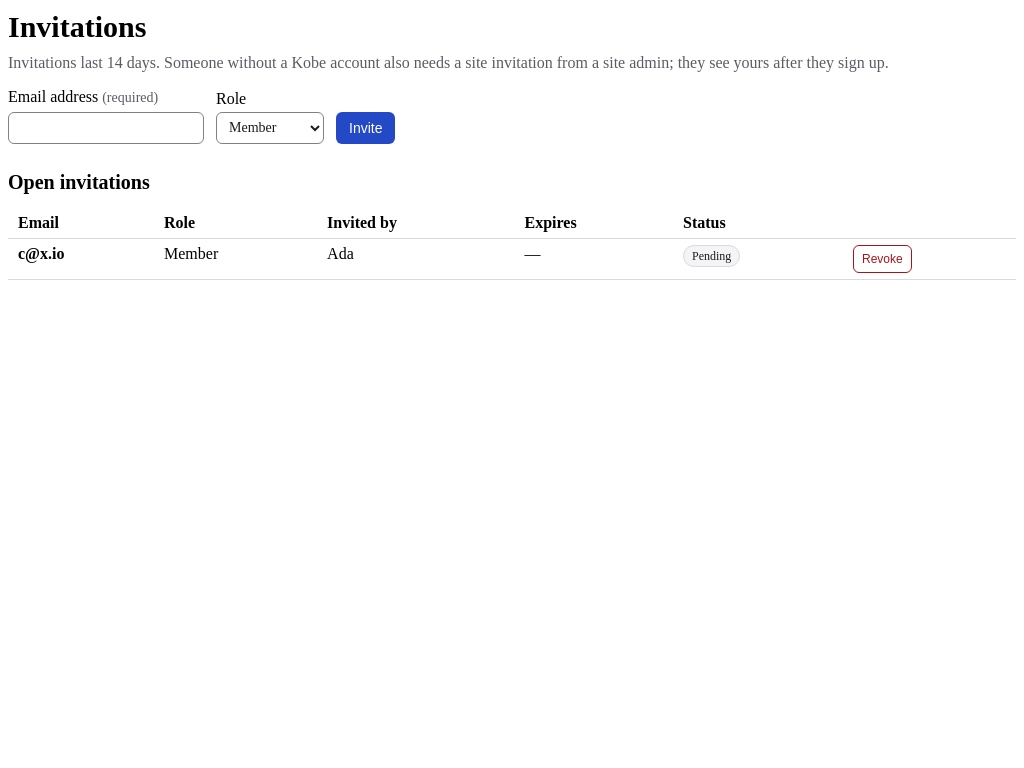
it: Team invitations › revokes
Click the button named "Revoke invitation to c@x.io" at (882, 258), box [853,244,912,272]
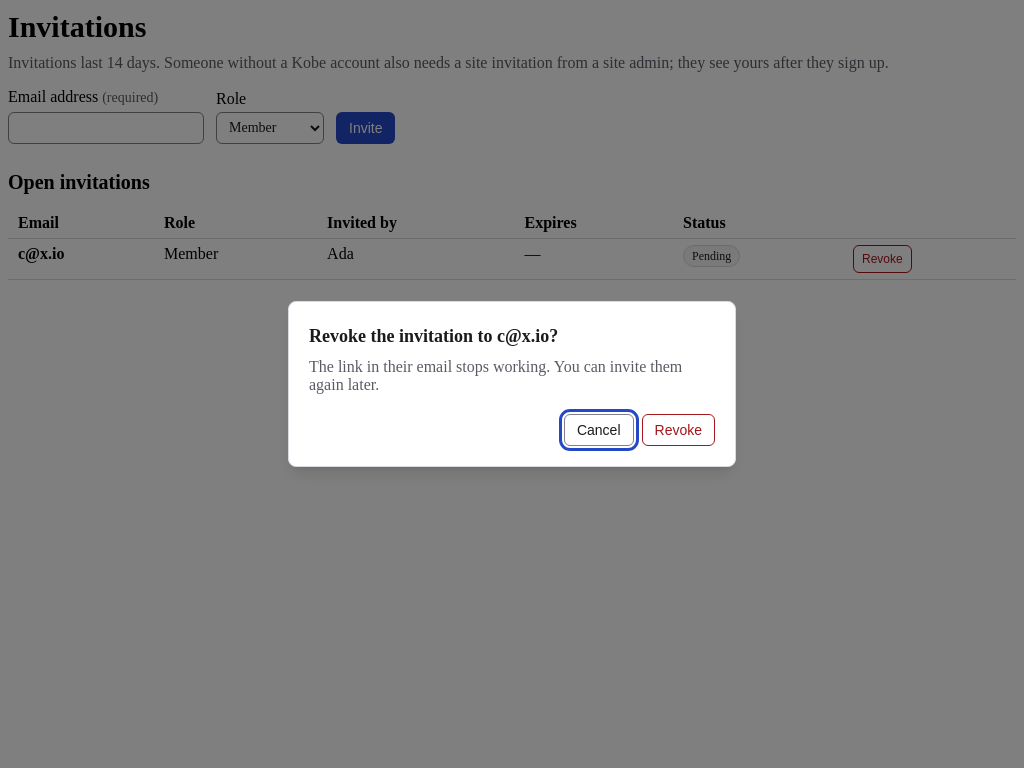
Click the button "Revoke" at (678, 430), box [642,414,715,446]
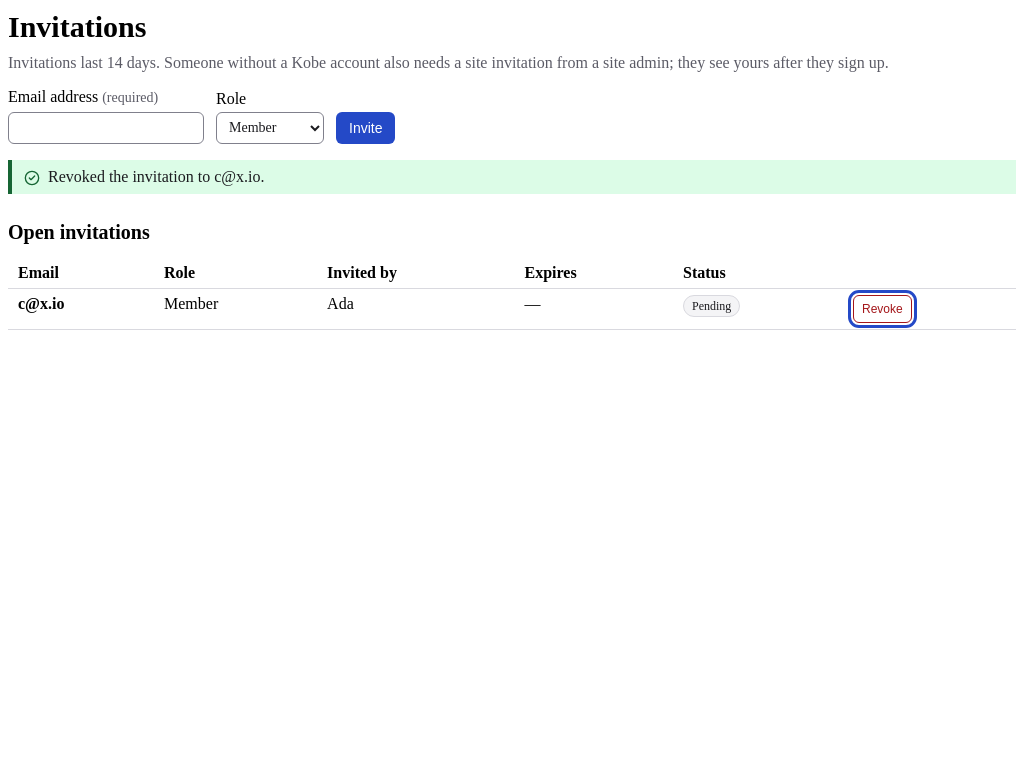
Expected: the text "Revoked the invitation to c@x.io." is shown, [48,168,264,184]
